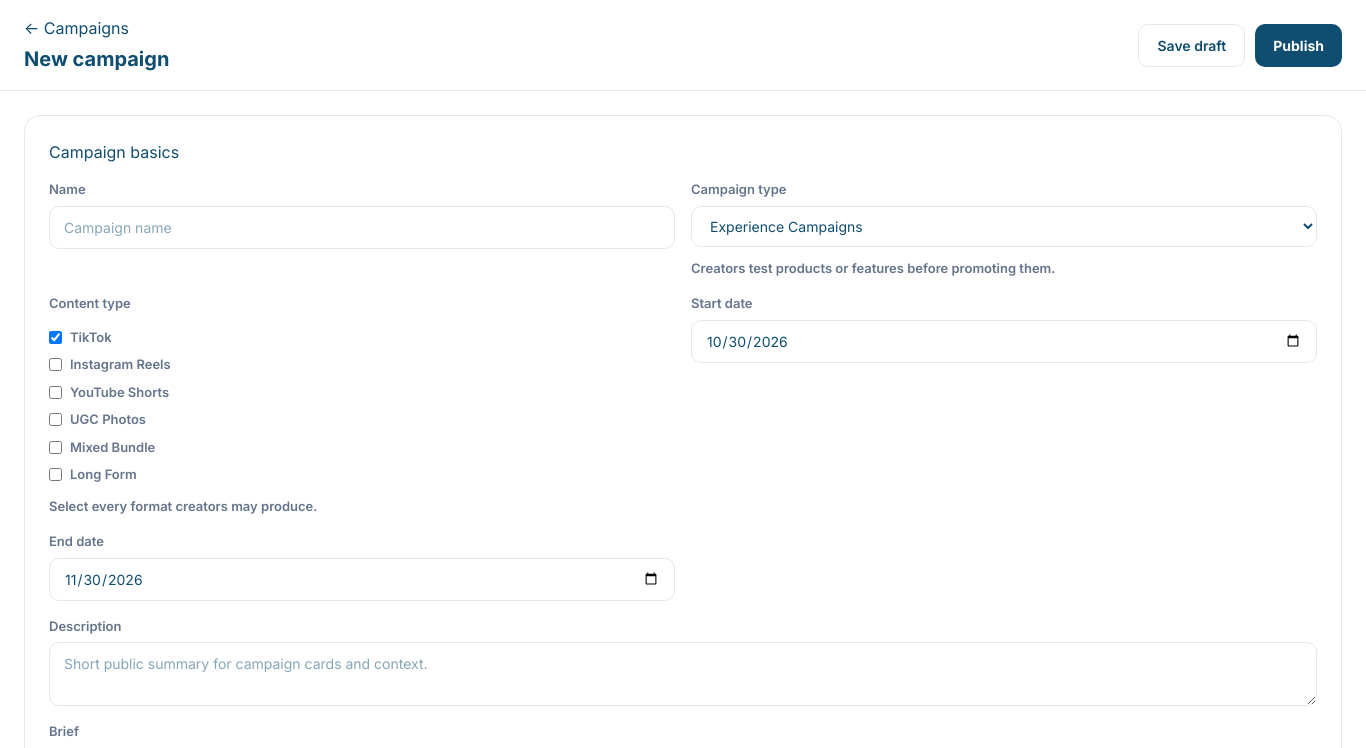
Test: CampaignCreateContent draft save › saves a draft with only a campaign name
Step 1. Type "A" into the field labelled "Name" → (362, 227), box x1=49 y1=206 x2=675 y2=248
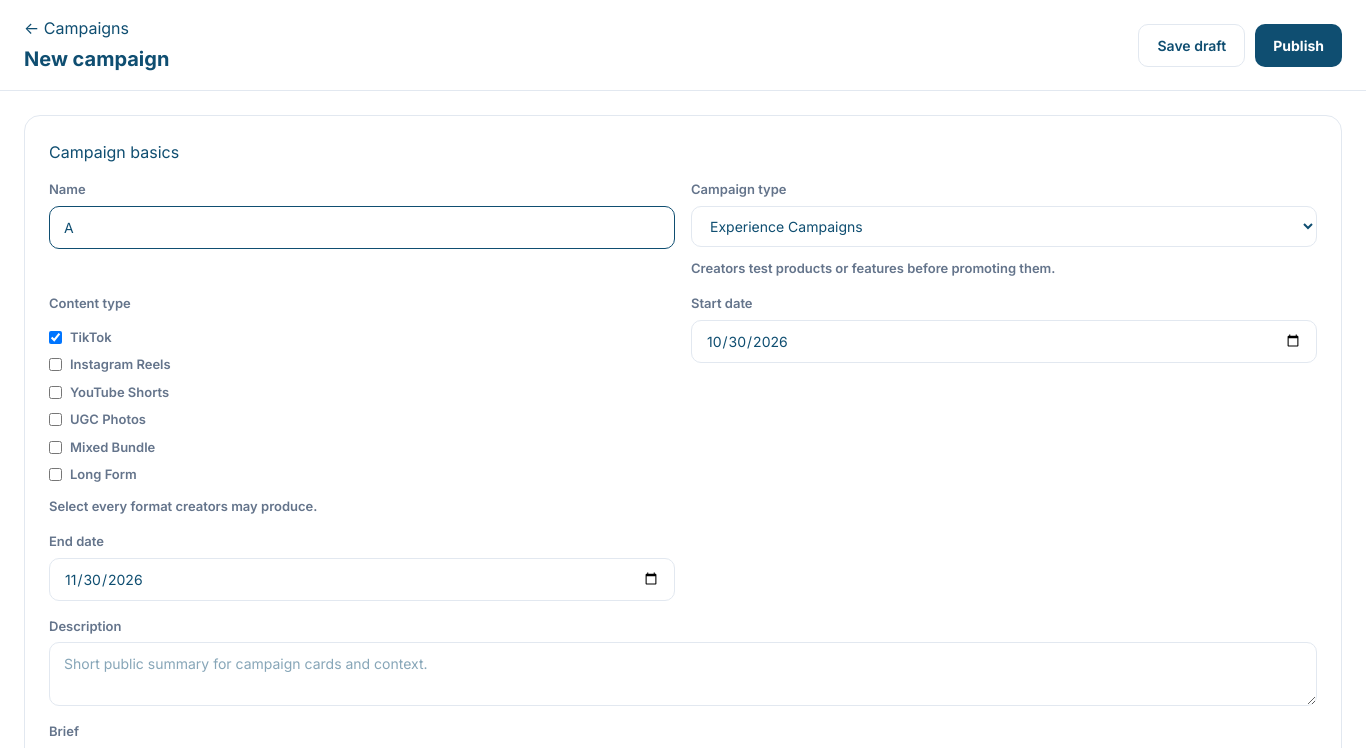
Step 2. Click the button "Save draft" → (1192, 45), box x1=1138 y1=24 x2=1245 y2=66
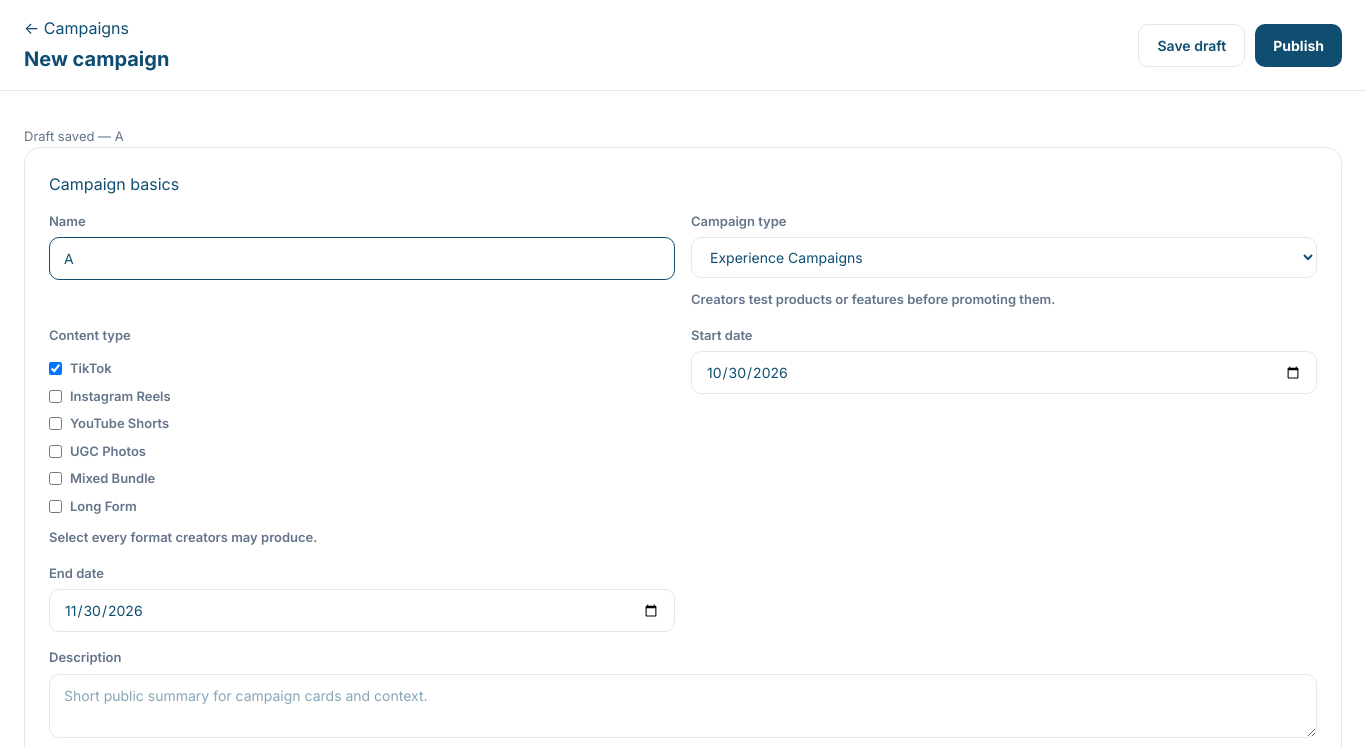
Now the text "Draft saved — A" is shown, box x1=24 y1=128 x2=124 y2=144
